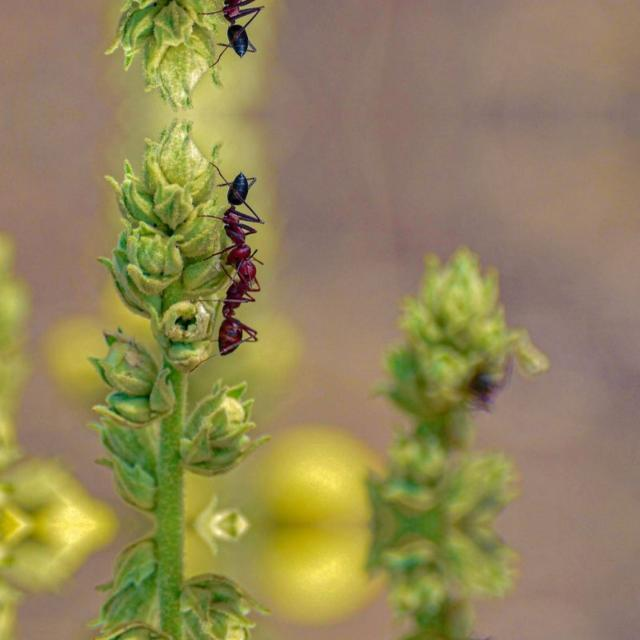Cataglyphis: (190, 237, 290, 363), (200, 163, 276, 264), (198, 0, 276, 64), (454, 354, 514, 404)
